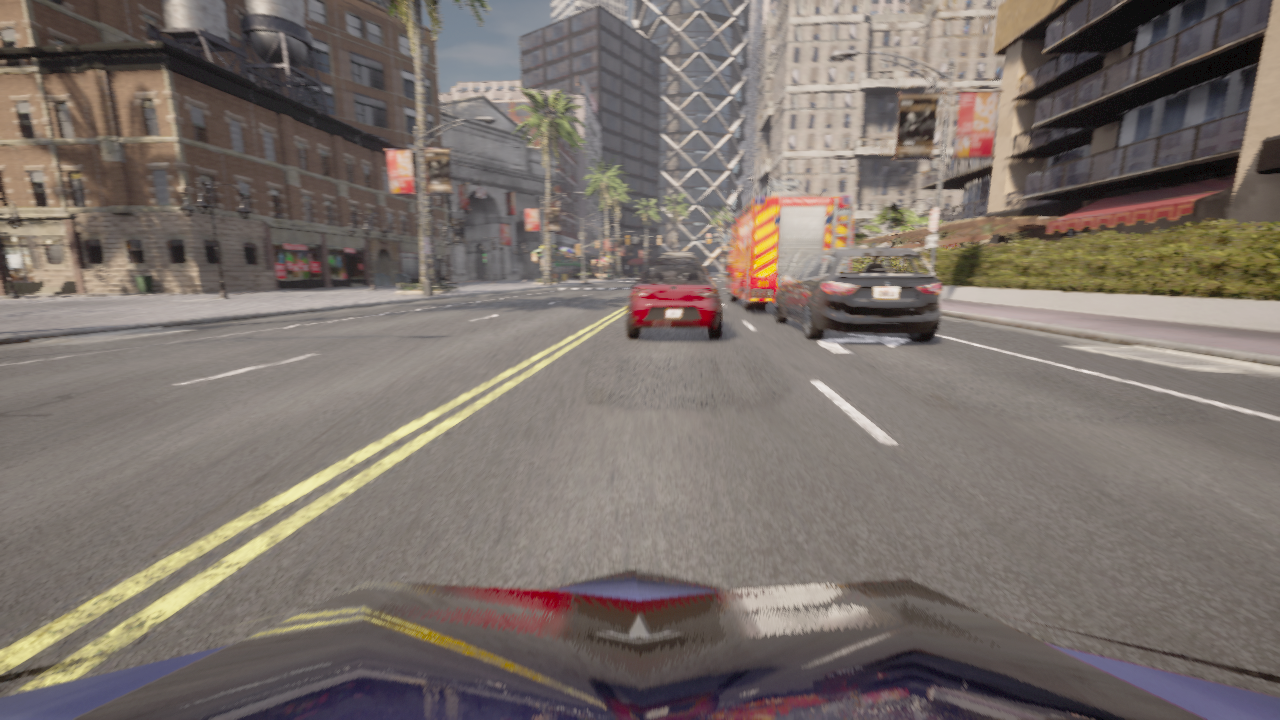cyclist: (0, 569, 1279, 719), (722, 180, 853, 310), (774, 248, 941, 340), (627, 260, 722, 339), (658, 253, 697, 260), (726, 291, 728, 294)
